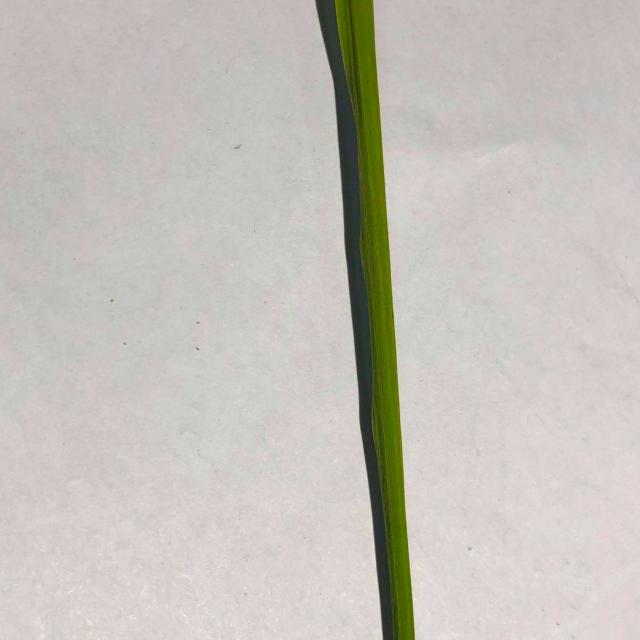Rice_Healthy: (316, 0, 415, 640)
